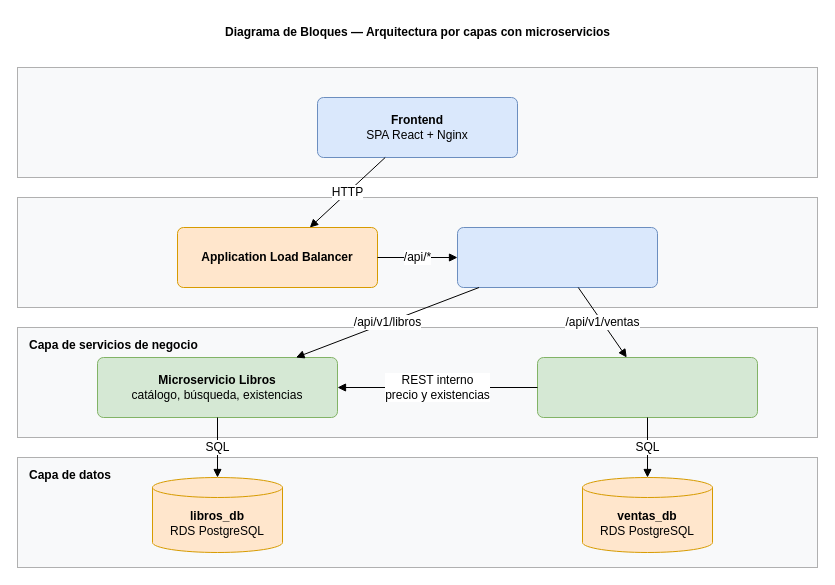
Some shapes in this 835 by 585 pixel diagram are drawn without their labels. The shapes that lost their labels are listed below. From the top down, each one's box as (x1, y1, x2, y2) in pixels, then its label:
(16, 66, 818, 178): Capa de presentación
(16, 196, 818, 308): Capa de borde
(456, 226, 658, 288): API Gateway Node.js + Express
(536, 356, 758, 418): Microservicio Ventas transacciones, ranking
